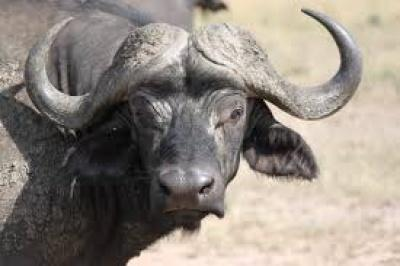buffalo: (0, 0, 360, 265)
